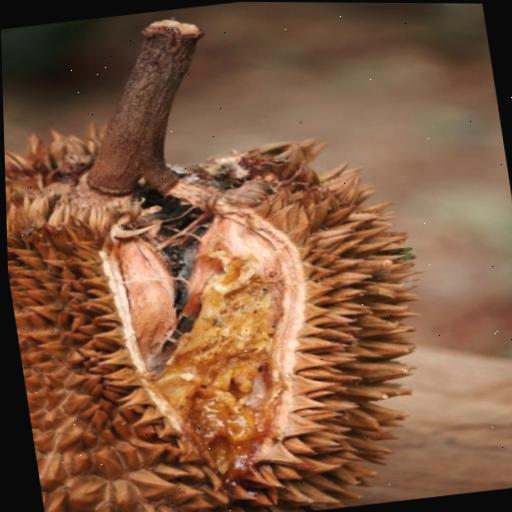rot: (0, 0, 477, 512)
